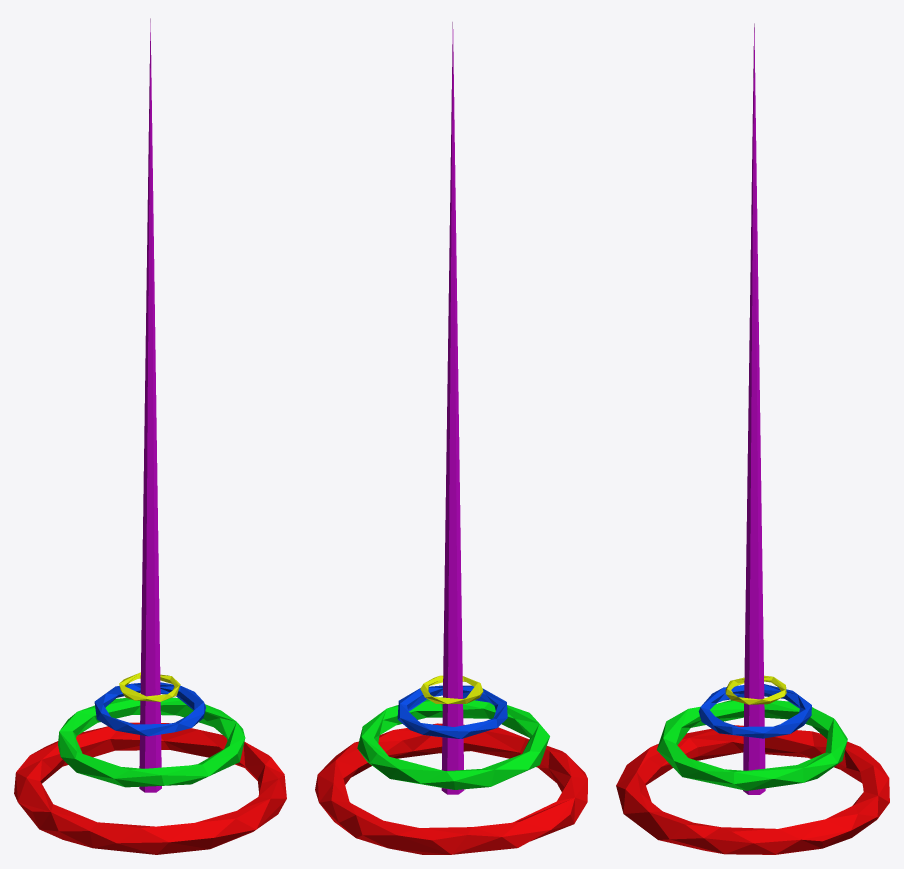
File: beacon2.fbx
The picture shows the model from 3 angles, left to right: view 1: azimuth 30°, elevation 25°; view 2: azimuth 150°, elevation 25°; view 3: azimuth 270°, elevation 25°; orthographic projection.
Visible parts, largest first — view 1: Torus.004; view 2: Torus.004; view 3: Torus.004.
Part boxes in pixels (box(x1,y1,x2,y2)): Torus.004: box(14, 18, 286, 854); Torus.004: box(315, 22, 587, 854); Torus.004: box(616, 23, 889, 854).
Size of the model in its own units: 191 by 610 by 192.
